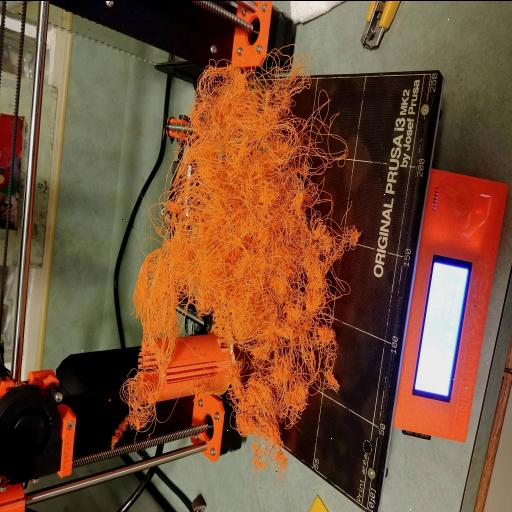spaghetti: (109, 45, 363, 459)
